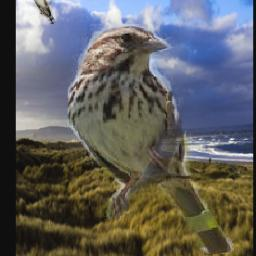Cuckoo: (31, 0, 57, 26)
Sparrow: (67, 24, 233, 254)
